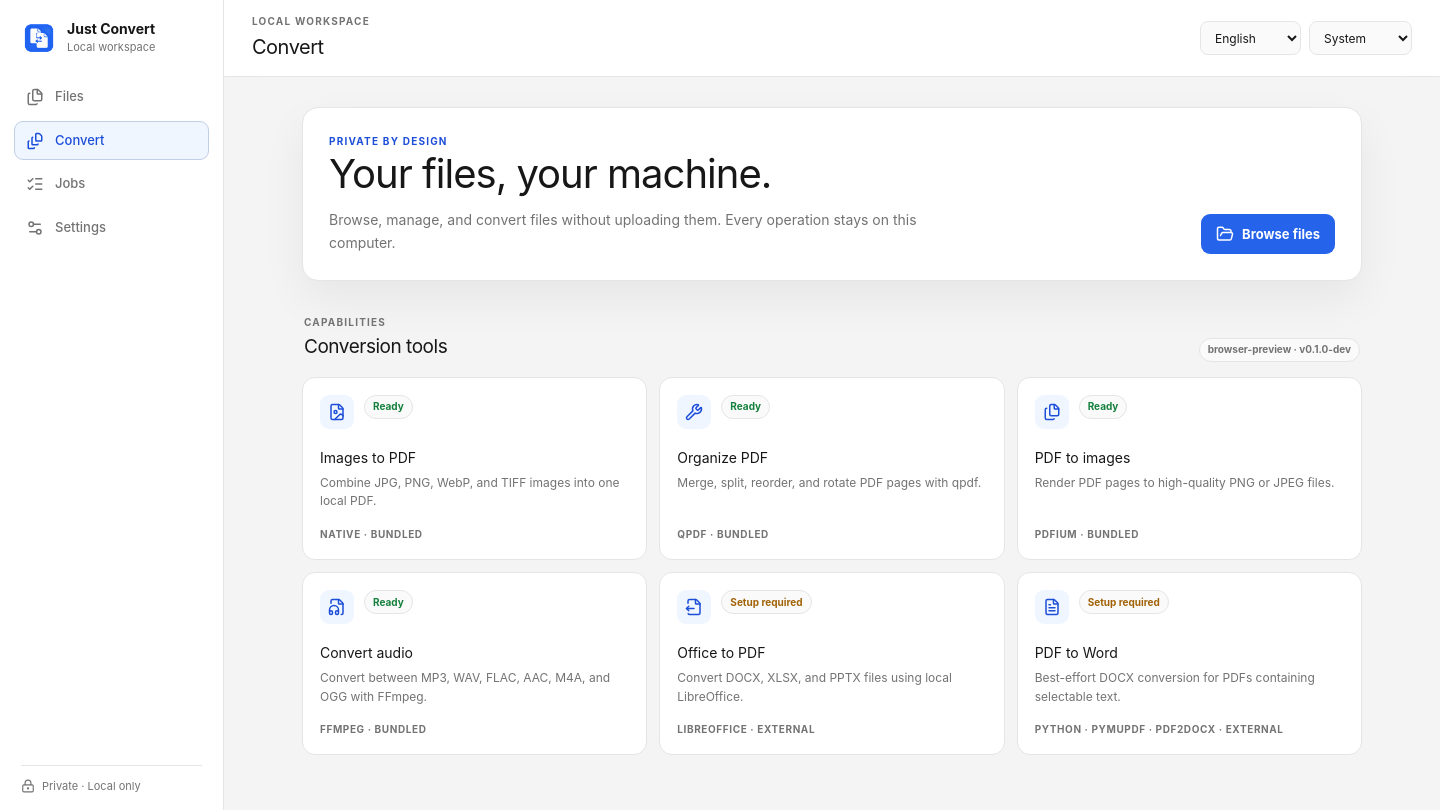
Test: App foundation › switches the interface to Turkish
Select "Türkçe" in the dropdown named "Language" at (1250, 38), box [1200,21,1301,55]
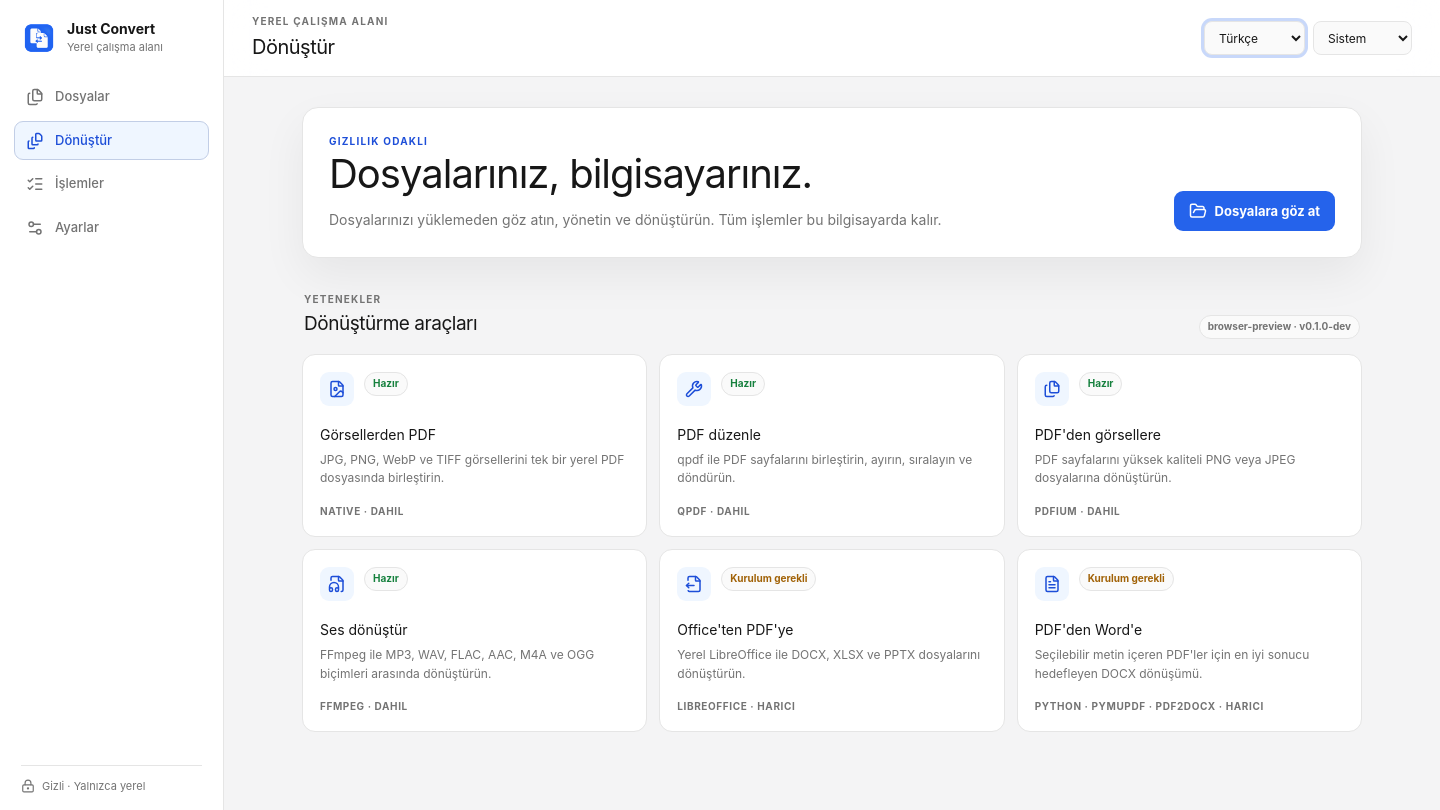
Expected: the heading "Dönüştürme araçları" is shown, [304,310,477,339]
Expected: the heading "Ses dönüştür" is shown, [320,619,408,640]
